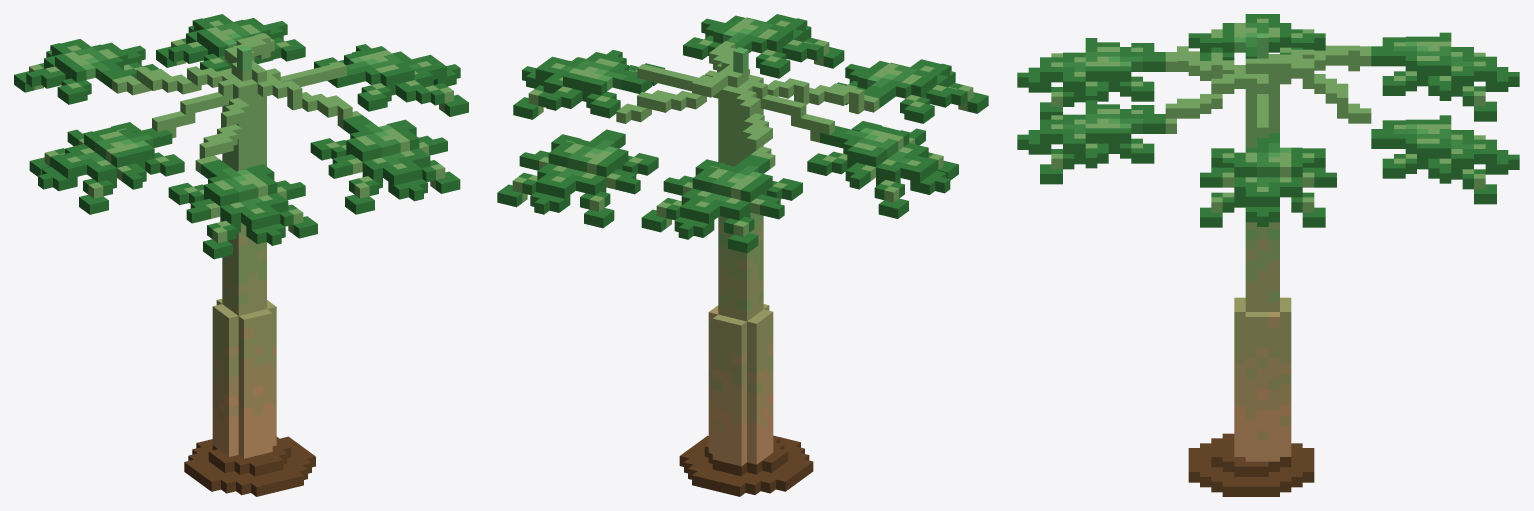
Rendered from 2_2 mamao.obj.
The picture shows the model from 3 angles, left to right: view 1: azimuth 30°, elevation 25°; view 2: azimuth 150°, elevation 25°; view 3: azimuth 270°, elevation 25°; orthographic projection. The views are drawn at different scales.
Size of the model in its own units: 4.4 by 4.2 by 4.4.
1 material, 1 textured.
